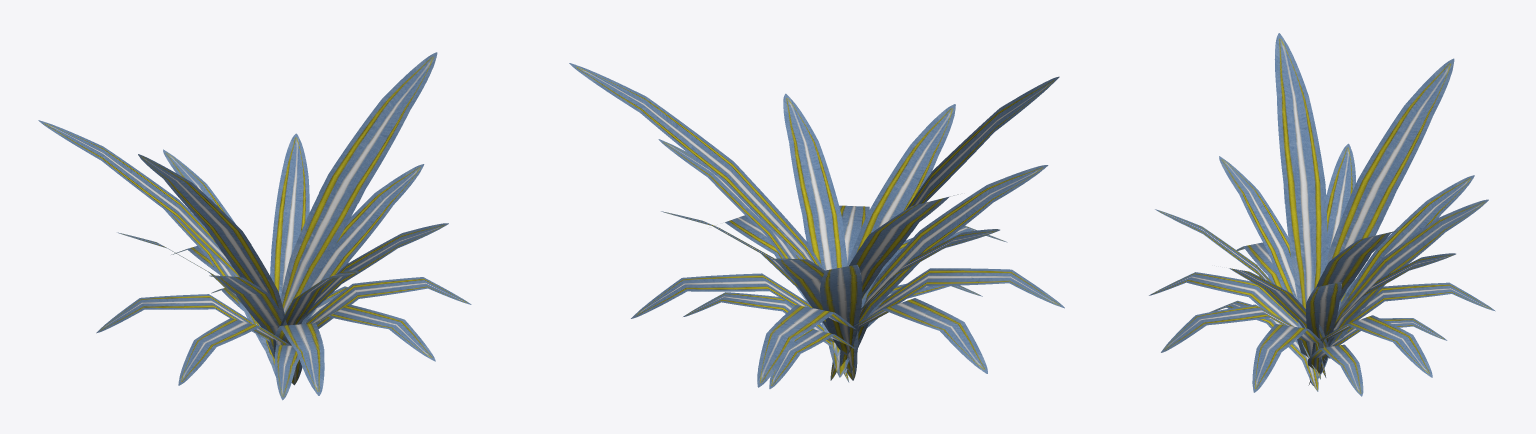
The model's file is plante_4_1.FBX.
3 views of the same model, side by side, from view 1: azimuth 30°, elevation 25°; view 2: azimuth 150°, elevation 25°; view 3: azimuth 270°, elevation 25° (orthographic). The views are drawn at different scales.
Visible parts, largest first — view 1: Plane324; view 2: Plane324; view 3: Plane324.
Part boxes in pixels (<box>): Plane324: <box>38,52,471,400</box>; Plane324: <box>569,63,1064,388</box>; Plane324: <box>1149,33,1495,396</box>.
Bounding box in the file's own units: 162 × 110 × 130.
1 material, 1 textured.
